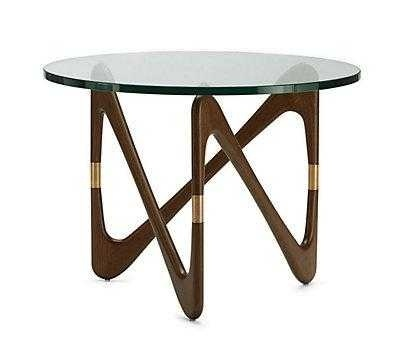obstacle: (44, 51, 359, 319)
